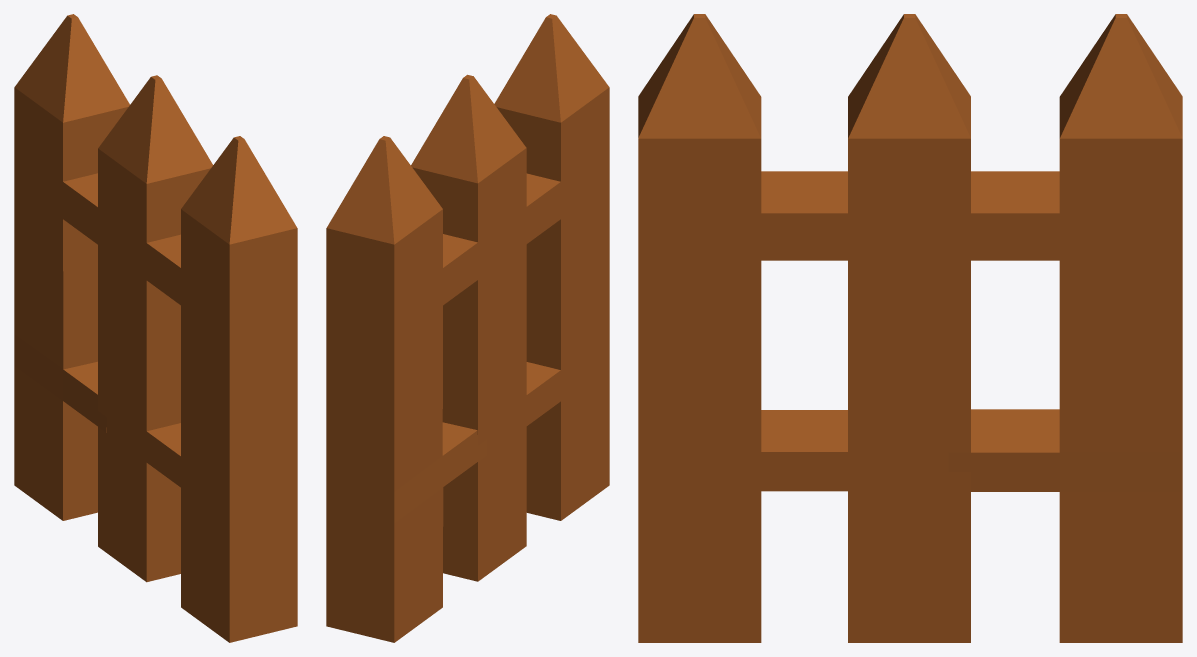
The model's file is Fence (1).fbx.
3 renders of one model, left to right at view 1: azimuth 30°, elevation 25°; view 2: azimuth 150°, elevation 25°; view 3: azimuth 270°, elevation 25°, orthographic. The views are drawn at different scales.
Parts seen in each view (by area): view 1: Cube.001; view 2: Cube.001; view 3: Cube.001.
Part boxes in pixels (x1,y1,x2,y2): Cube.001: (14, 14, 297, 642); Cube.001: (326, 14, 609, 642); Cube.001: (638, 14, 1182, 642).
Bounding box in the file's own units: 56.84 × 380 × 310.
